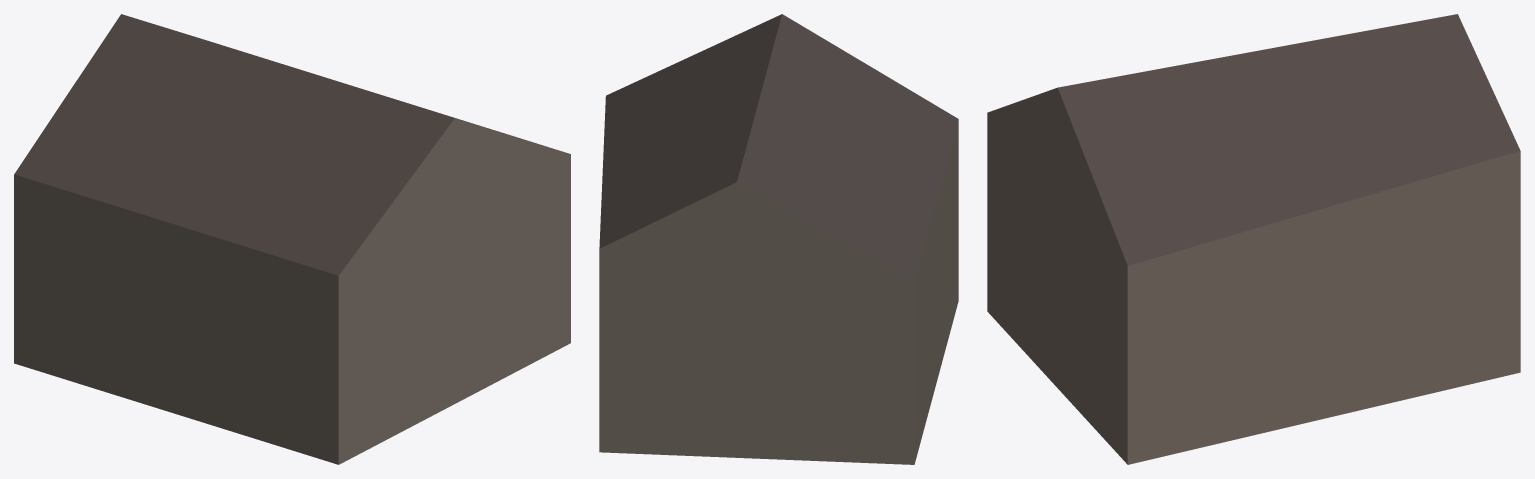
3 renders of one model, left to right at view 1: azimuth 30°, elevation 25°; view 2: azimuth 150°, elevation 25°; view 3: azimuth 270°, elevation 25°, orthographic. The views are drawn at different scales.
Visible parts, largest first — view 1: HP-w1512800285; view 2: HP-w1512800285; view 3: HP-w1512800285.
Boxes of the visible parts, left/top/right/bottom form: HP-w1512800285: left=14, top=14, right=570, bottom=464; HP-w1512800285: left=599, top=14, right=958, bottom=464; HP-w1512800285: left=987, top=14, right=1520, bottom=464.
Size of the model in its own units: 14.55 by 9.07 by 14.57.
